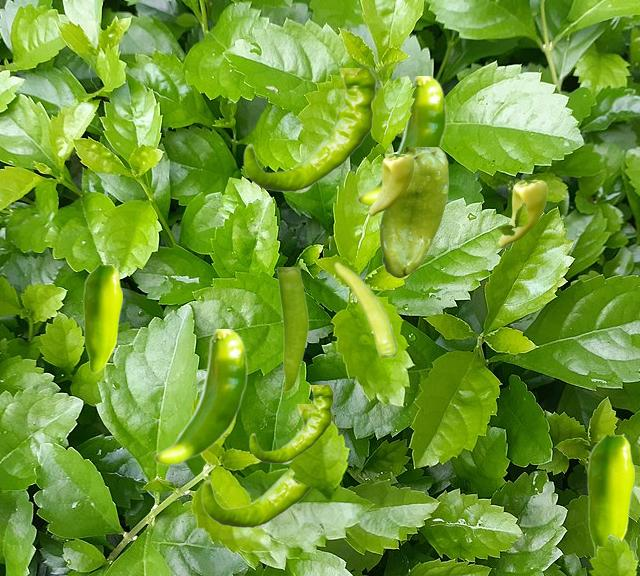green_chili: (201, 404, 334, 528), (243, 68, 376, 192), (153, 329, 247, 465), (356, 76, 446, 206), (379, 147, 447, 277), (249, 385, 333, 463), (334, 261, 396, 356), (587, 435, 633, 556), (83, 265, 121, 372), (276, 267, 307, 391), (497, 180, 546, 247), (368, 154, 413, 215)
